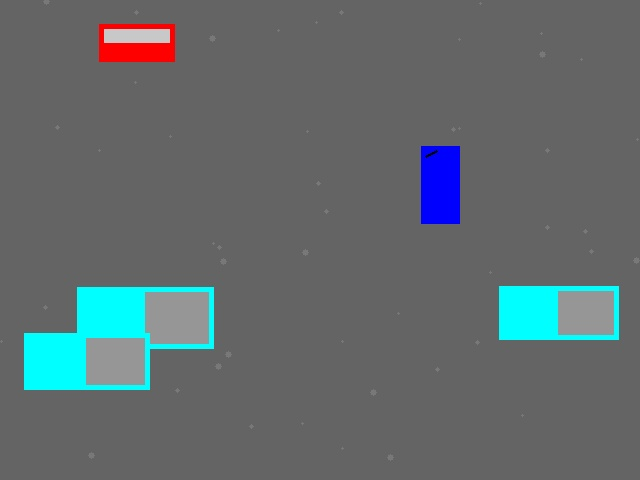car: (99, 24, 174, 61)
motorcycle: (421, 146, 459, 223)
truck: (77, 287, 213, 348), (24, 333, 149, 389), (499, 286, 618, 339)
